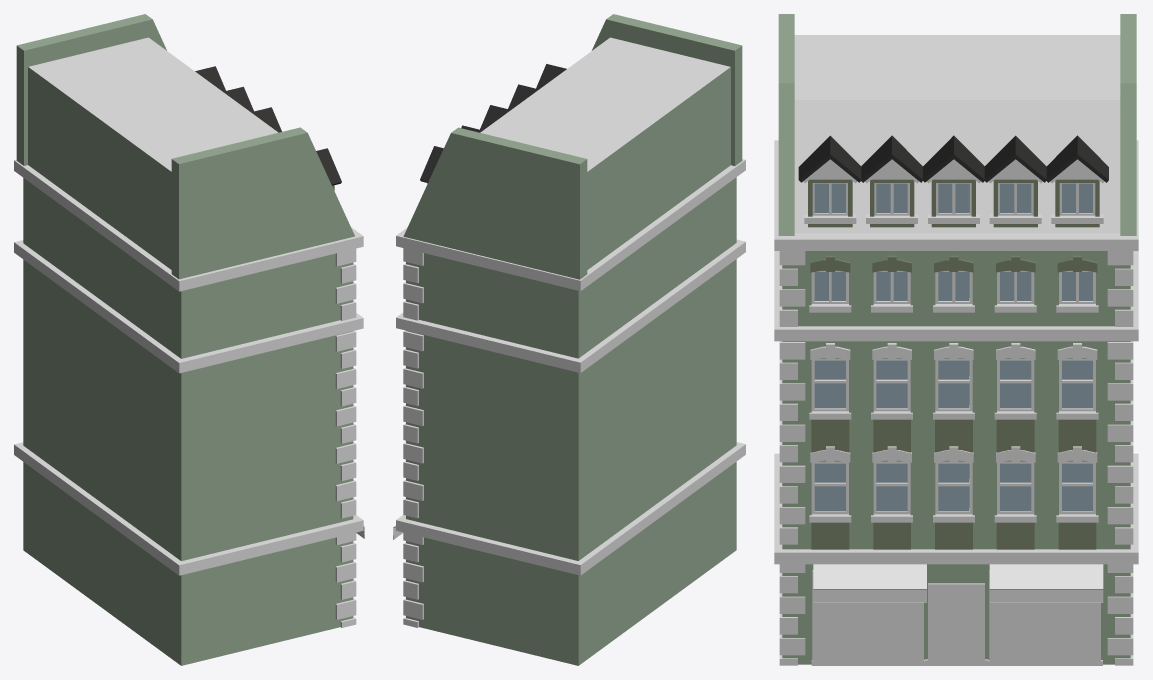
The model's file is Brick_house-green.fbx.
3 views of the same model, side by side, from view 1: azimuth 30°, elevation 25°; view 2: azimuth 150°, elevation 25°; view 3: azimuth 270°, elevation 25° (orthographic). The views are drawn at different scales.
Parts seen in each view (by area): view 1: Cube.082, Cube.087, Cube.088, Cube.079, Cube.091; view 2: Cube.082, Cube.087, Cube.088, Cube.079, Cube.091; view 3: Cube.082, Cube.086, Cube.079, Cube.081, Cube.089, Plane.004, Cube.087, Cube.083, Cube.088, Cube.091, Cube.080.
Boxes of the visible parts, x1,y1,x2,y2 form: Cube.082: (14,14,363,665); Cube.087: (335,330,356,518); Cube.088: (335,532,356,627); Cube.079: (195,66,341,190); Cube.091: (335,248,356,320); Cube.082: (396,14,745,665); Cube.087: (403,330,423,518); Cube.088: (403,532,423,627); Cube.079: (420,64,566,183); Cube.091: (403,248,423,320); Cube.082: (774,14,1138,664); Cube.086: (809,343,1098,549); Cube.079: (798,135,1108,227); Cube.081: (812,570,1100,661); Cube.089: (809,255,1098,312); Plane.004: (813,564,1103,602); Cube.087: (779,341,1133,544); Cube.083: (928,583,984,660); Cube.088: (779,564,1133,665); Cube.091: (779,251,1133,326); Cube.080: (811,660,1102,665).
Size of the model in its own units: 721 by 1708 by 1014.
